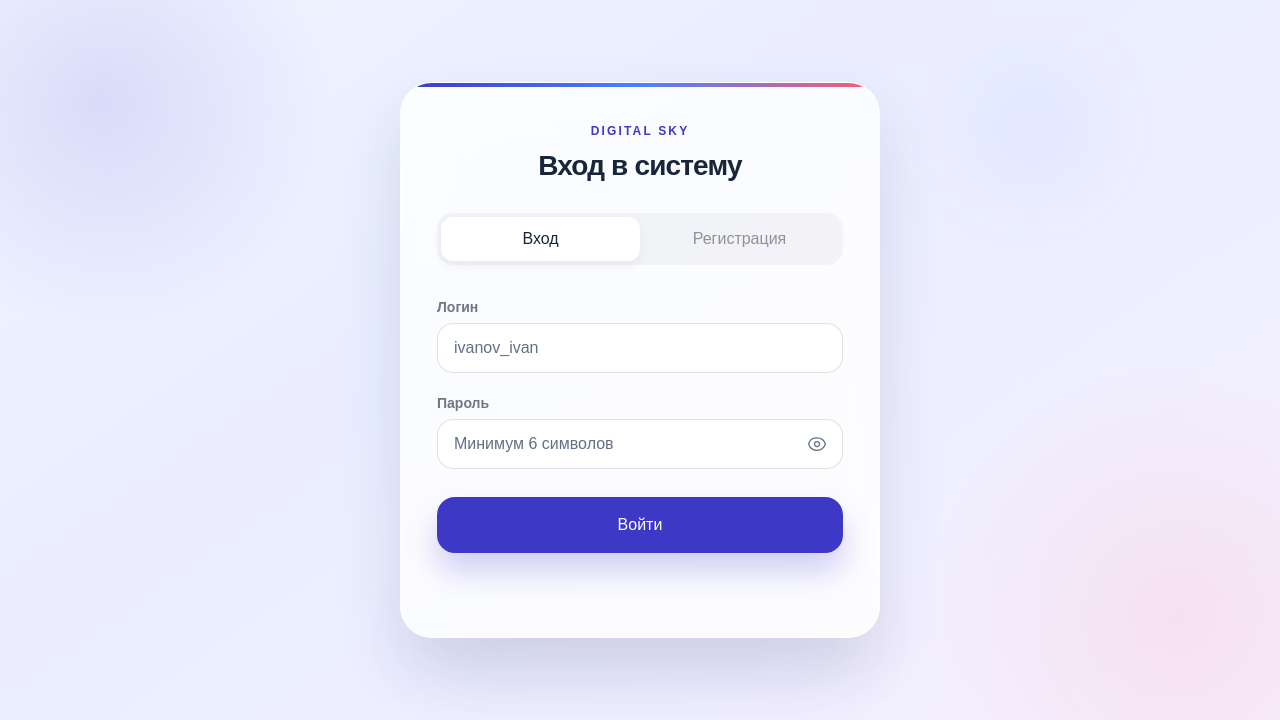
AuthPage › shows error on login when user does not exist
Type "unknown_user" into the field labelled "Логин" at coordinates (640, 348), box [437,323,843,373]
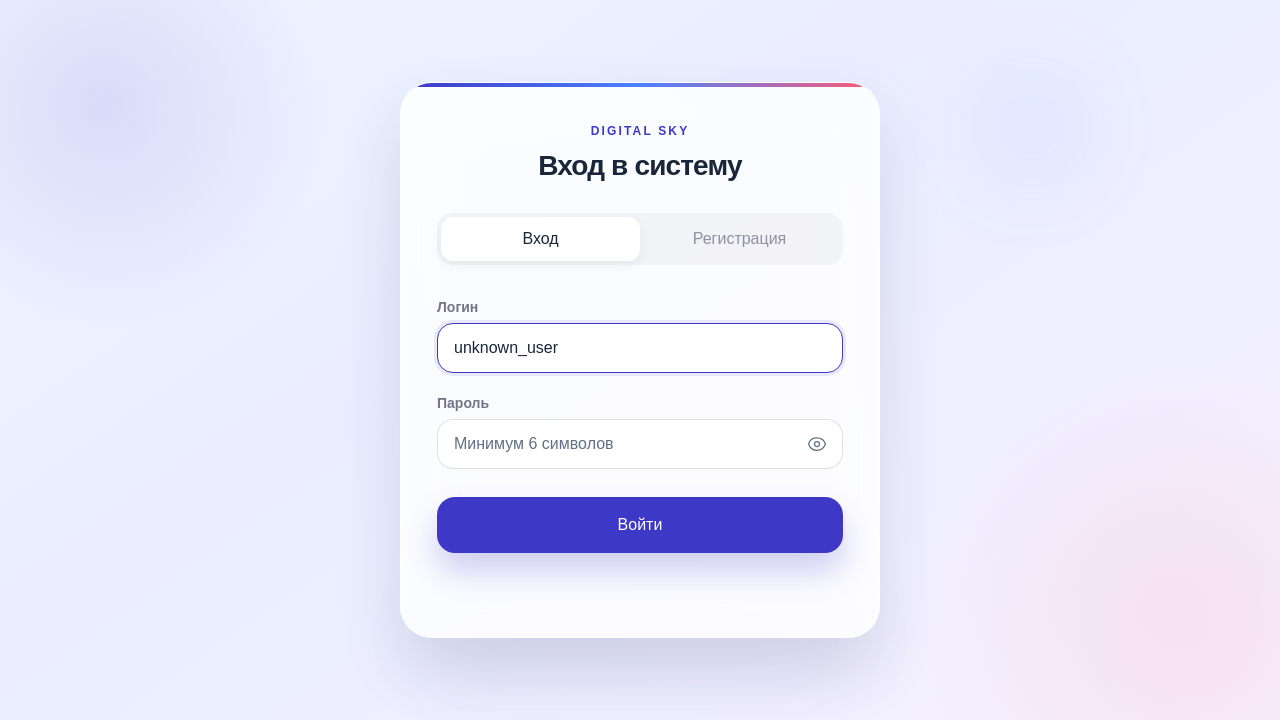
Type "password123" into the password field labelled "Пароль" at coordinates (640, 444), box [437,419,843,469]
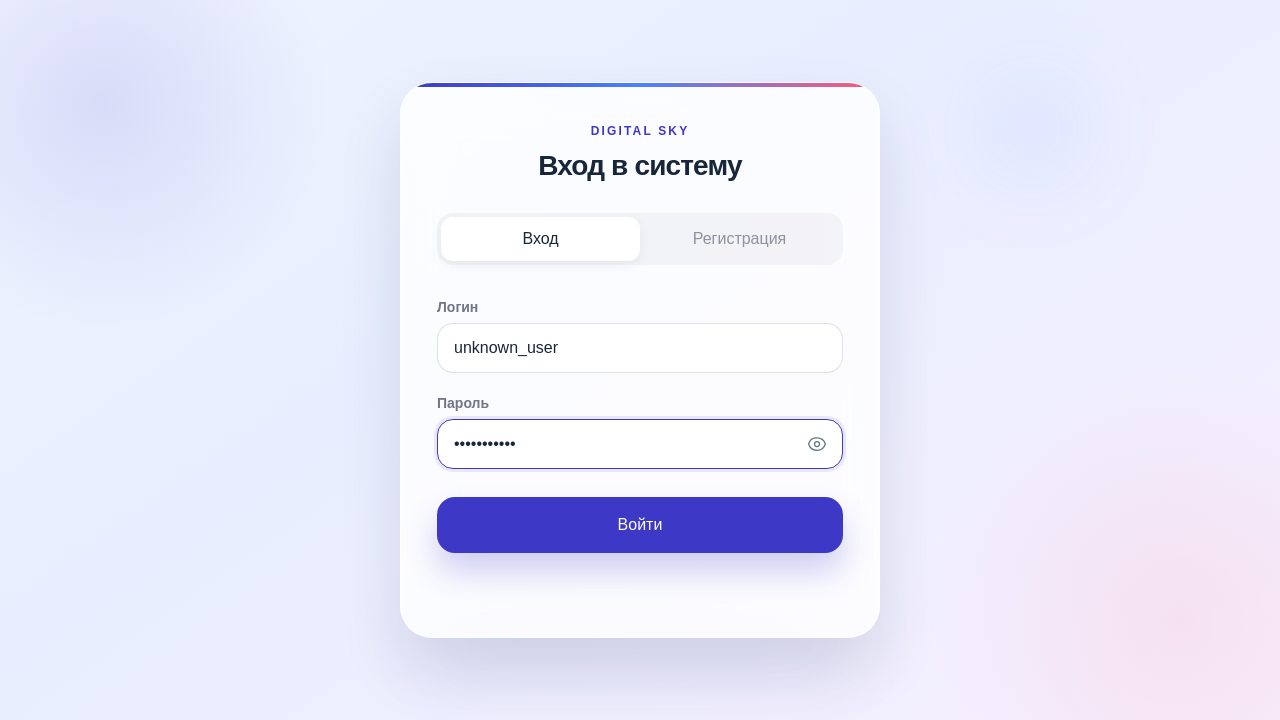
Click the button "Войти" at coordinates (640, 525), box [437,497,843,553]
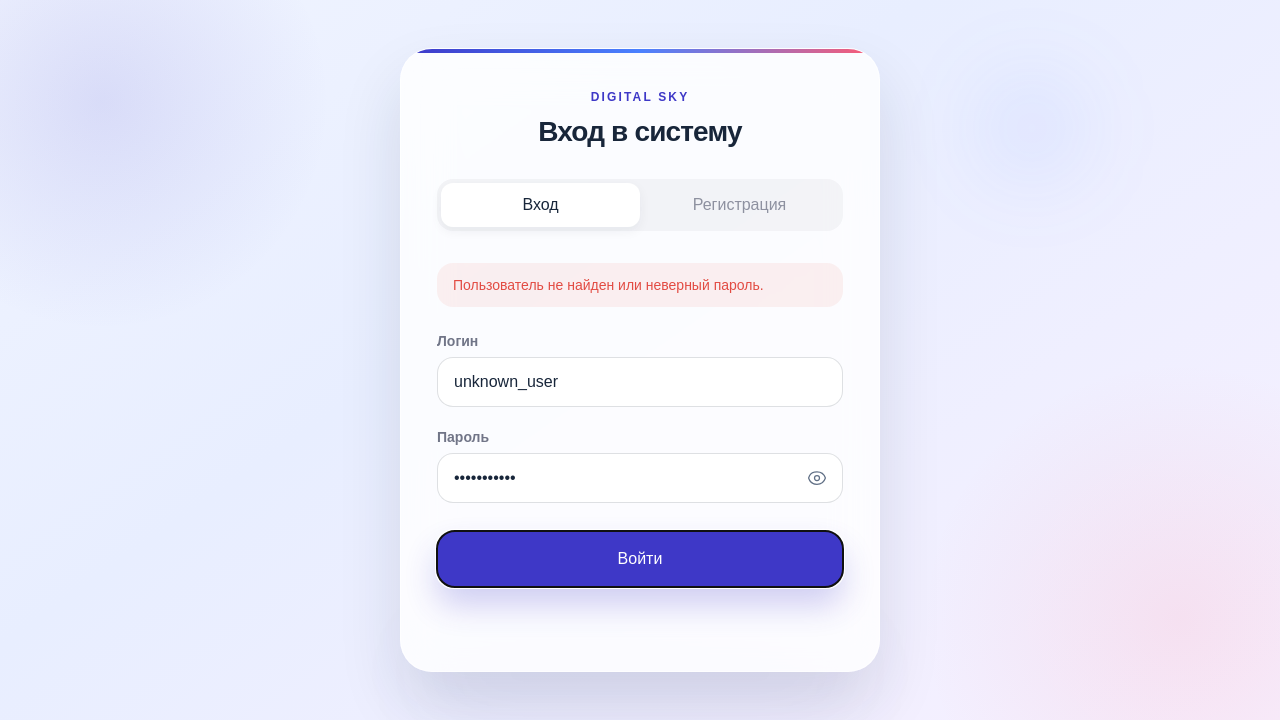
Now the text "Пользователь не найден или неверный пароль." is shown, box [437,263,843,307]
